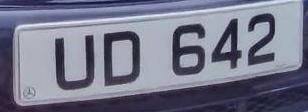2: (244, 8, 281, 71)
4: (210, 12, 247, 80)
6: (168, 16, 212, 86)
D: (95, 25, 147, 94)
U: (45, 28, 103, 95)
